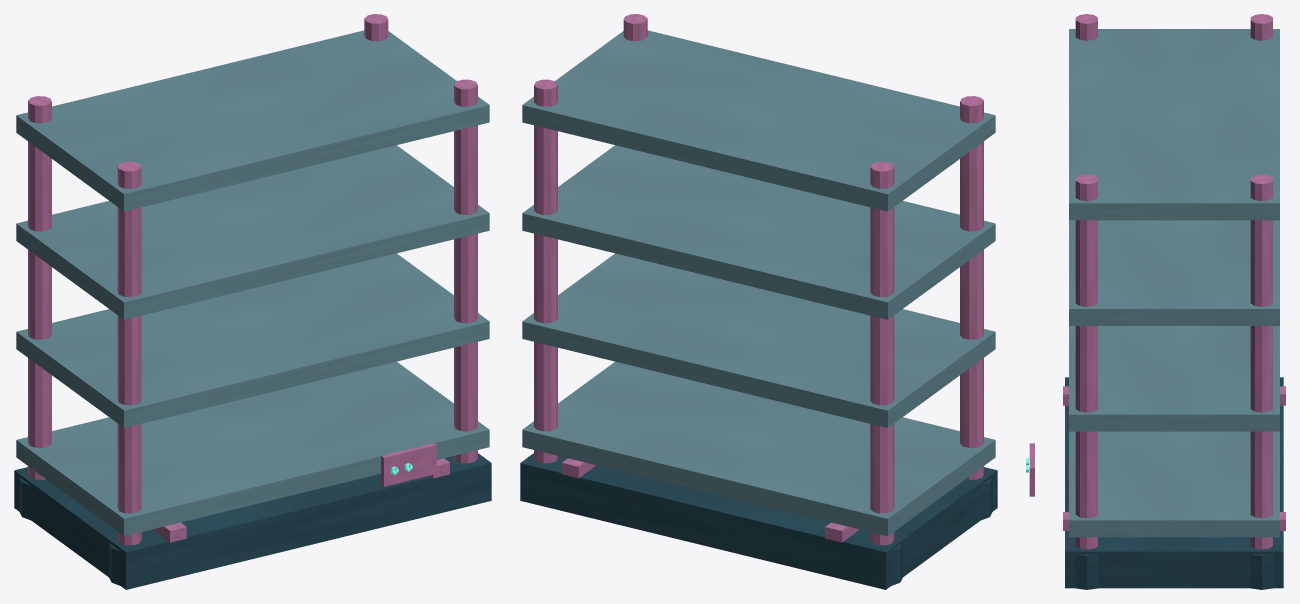
File: atlas100-s062-a06.glb
The picture shows the model from 3 angles, left to right: view 1: azimuth 30°, elevation 25°; view 2: azimuth 150°, elevation 25°; view 3: azimuth 270°, elevation 25°; orthographic projection. The views are drawn at different scales.
Parts seen in each view (by area): view 1: atlas100-s062-a06:part-014, atlas100-s062-a06:part-012, atlas100-s062-a06:part-013, atlas100-s062-a06:part-011, atlas100-s062-a06:part-000, atlas100-s062-a06:part-005, atlas100-s062-a06:part-009, atlas100-s062-a06:part-003, atlas100-s062-a06:part-015, atlas100-s062-a06:part-007; view 2: atlas100-s062-a06:part-014, atlas100-s062-a06:part-012, atlas100-s062-a06:part-011, atlas100-s062-a06:part-013, atlas100-s062-a06:part-000, atlas100-s062-a06:part-003, atlas100-s062-a06:part-007, atlas100-s062-a06:part-005, atlas100-s062-a06:part-009; view 3: atlas100-s062-a06:part-014, atlas100-s062-a06:part-011, atlas100-s062-a06:part-012, atlas100-s062-a06:part-013, atlas100-s062-a06:part-000, atlas100-s062-a06:part-009, atlas100-s062-a06:part-007, atlas100-s062-a06:part-008, atlas100-s062-a06:part-010, atlas100-s062-a06:part-003, atlas100-s062-a06:part-005.
Boxes of the visible parts, left/top/right/bottom form: atlas100-s062-a06:part-014: left=16, top=30, right=489, bottom=211; atlas100-s062-a06:part-012: left=16, top=253, right=489, bottom=427; atlas100-s062-a06:part-013: left=16, top=145, right=489, bottom=319; atlas100-s062-a06:part-011: left=16, top=361, right=489, bottom=536; atlas100-s062-a06:part-000: left=14, top=453, right=491, bottom=589; atlas100-s062-a06:part-005: left=117, top=161, right=141, bottom=545; atlas100-s062-a06:part-009: left=454, top=79, right=477, bottom=463; atlas100-s062-a06:part-003: left=28, top=96, right=51, bottom=479; atlas100-s062-a06:part-015: left=381, top=443, right=436, bottom=486; atlas100-s062-a06:part-007: left=364, top=14, right=388, bottom=41; atlas100-s062-a06:part-014: left=522, top=30, right=995, bottom=211; atlas100-s062-a06:part-012: left=522, top=253, right=995, bottom=427; atlas100-s062-a06:part-011: left=522, top=361, right=995, bottom=536; atlas100-s062-a06:part-013: left=522, top=145, right=995, bottom=319; atlas100-s062-a06:part-000: left=520, top=453, right=997, bottom=589; atlas100-s062-a06:part-003: left=870, top=161, right=894, bottom=545; atlas100-s062-a06:part-007: left=534, top=79, right=557, bottom=463; atlas100-s062-a06:part-005: left=960, top=96, right=983, bottom=479; atlas100-s062-a06:part-009: left=623, top=14, right=647, bottom=41; atlas100-s062-a06:part-014: left=1069, top=29, right=1279, bottom=220; atlas100-s062-a06:part-011: left=1069, top=431, right=1279, bottom=537; atlas100-s062-a06:part-012: left=1069, top=326, right=1279, bottom=431; atlas100-s062-a06:part-013: left=1069, top=220, right=1279, bottom=325; atlas100-s062-a06:part-000: left=1065, top=377, right=1283, bottom=588; atlas100-s062-a06:part-009: left=1075, top=174, right=1097, bottom=549; atlas100-s062-a06:part-007: left=1250, top=174, right=1272, bottom=549; atlas100-s062-a06:part-008: left=1250, top=554, right=1273, bottom=589; atlas100-s062-a06:part-010: left=1075, top=554, right=1098, bottom=589; atlas100-s062-a06:part-003: left=1250, top=14, right=1272, bottom=40; atlas100-s062-a06:part-005: left=1075, top=14, right=1097, bottom=40.
Size of the model in its own units: 2.69 by 2.84 by 1.66.
4 materials, 4 textured.
